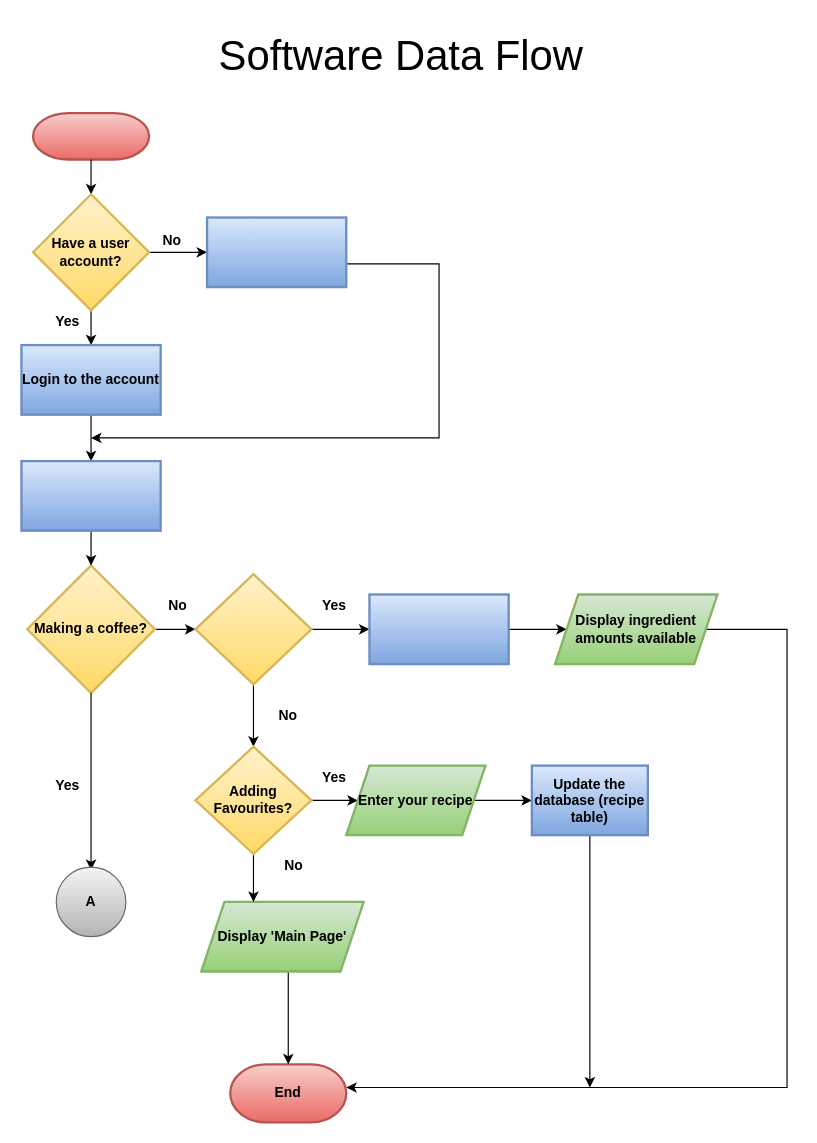
Some shapes in this 817 by 1143 pixel diagram are drawn without their labels. Each missing label, with the box of its shape:
Add or Select a coffee machine: (20, 459, 161, 531)
Check database (Ingredients table): (368, 593, 509, 665)
Sign up: (205, 216, 347, 288)
Start: (31, 111, 150, 160)
Tracking ingredients?: (194, 572, 312, 685)
